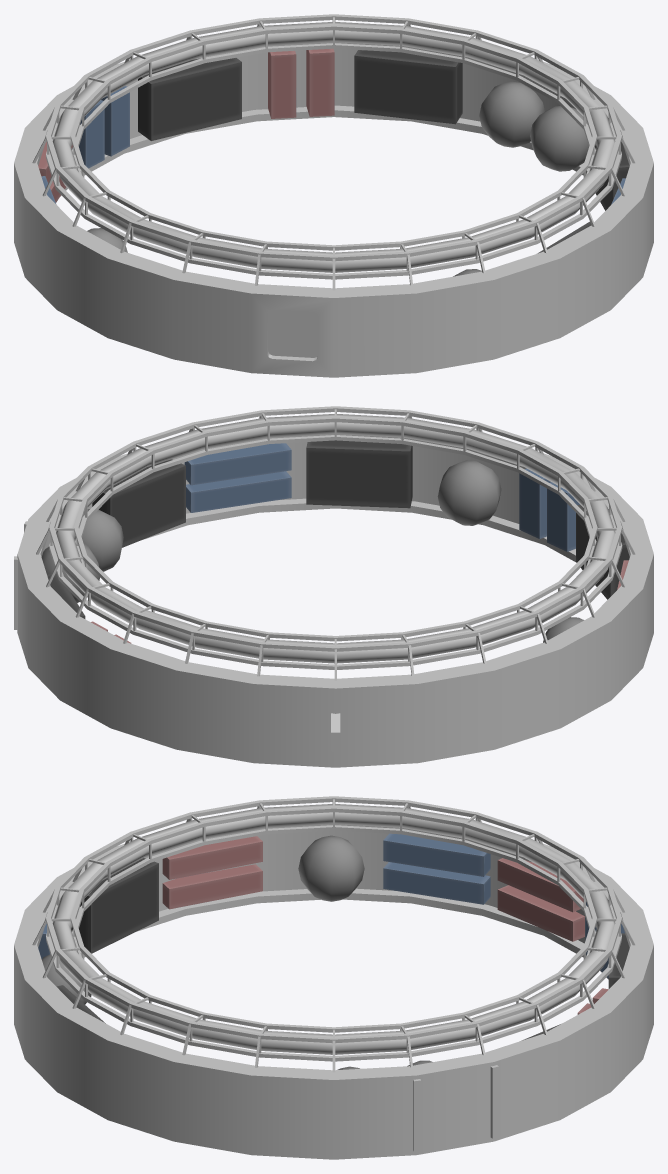
File: Saturn_S4B_InstrumentUnit.dae
The picture shows the model from 3 angles, top to bottom: view 1: azimuth 30°, elevation 25°; view 2: azimuth 150°, elevation 25°; view 3: azimuth 270°, elevation 25°; orthographic projection.
Parts seen in each view (by area): view 1: S4B_InstrumentUnit_Merged_Ring, S4B_InstrumentUnit_Merged_Instruments; view 2: S4B_InstrumentUnit_Merged_Ring, S4B_InstrumentUnit_Merged_Instruments; view 3: S4B_InstrumentUnit_Merged_Ring, S4B_InstrumentUnit_Merged_Instruments.
Part boxes in pixels (x1=…): S4B_InstrumentUnit_Merged_Ring: x1=14, y1=14, x2=653, y2=377; S4B_InstrumentUnit_Merged_Instruments: x1=38, y1=48, x2=629, y2=276; S4B_InstrumentUnit_Merged_Ring: x1=14, y1=406, x2=653, y2=767; S4B_InstrumentUnit_Merged_Instruments: x1=41, y1=440, x2=629, y2=643; S4B_InstrumentUnit_Merged_Ring: x1=14, y1=796, x2=653, y2=1159; S4B_InstrumentUnit_Merged_Instruments: x1=38, y1=833, x2=629, y2=1069.
Size of what is drawn, in the model's own units: 3.75 by 0.689 by 3.75.
